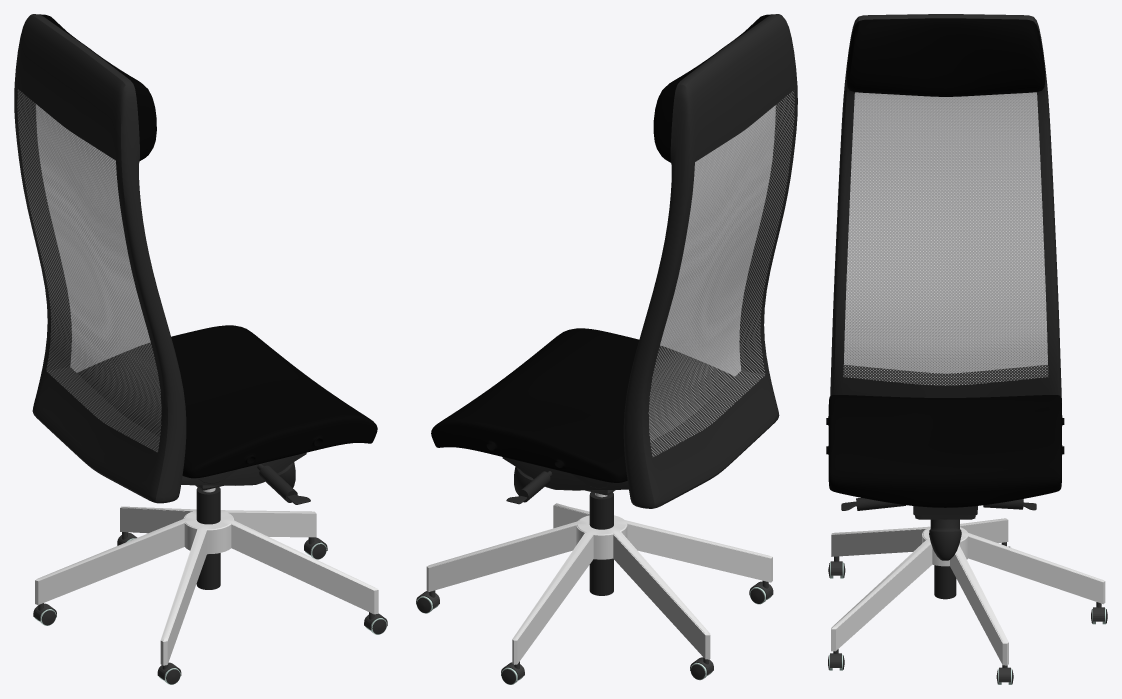
3 views of the same model, side by side, from view 1: azimuth 30°, elevation 25°; view 2: azimuth 150°, elevation 25°; view 3: azimuth 270°, elevation 25° (orthographic). The views are drawn at different scales.
Parts seen in each view (by area): view 1: Back_2, Back.001_32, Seat_3, Cylinder_7, Cube_5, Cylinder.021_11; view 2: Back_2, Back.001_32, Seat_3, Cylinder_7, Cube_5; view 3: Back.001_32, Back_2, Seat_3, Cylinder_7, Cube_5, Bottom part 1_4.
Boxes of the visible parts, x1,y1,x2,y2 form: Back_2: [14, 14, 186, 503]; Back.001_32: [17, 89, 161, 452]; Seat_3: [77, 325, 377, 478]; Cylinder_7: [35, 487, 378, 665]; Cube_5: [181, 452, 306, 487]; Cylinder.021_11: [257, 464, 297, 502]; Back_2: [623, 14, 797, 508]; Back.001_32: [648, 90, 794, 456]; Seat_3: [431, 328, 733, 482]; Cylinder_7: [426, 492, 772, 664]; Cube_5: [502, 457, 628, 494]; Back.001_32: [843, 92, 1048, 385]; Back_2: [830, 14, 1061, 402]; Seat_3: [826, 395, 1064, 507]; Cylinder_7: [831, 518, 1105, 665]; Cube_5: [915, 515, 975, 560]; Bottom part 1_4: [913, 506, 977, 515].
Bounding box in the file's own units: 1.51 × 2.99 × 1.39.
9 materials, 1 textured.
